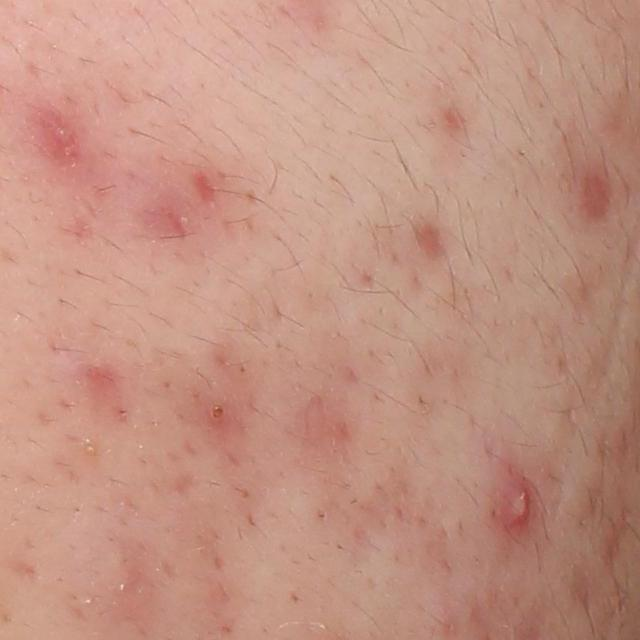atrophic_scar: (192, 171, 215, 204)
papule: (205, 396, 233, 427)
pustule: (493, 477, 536, 535)
